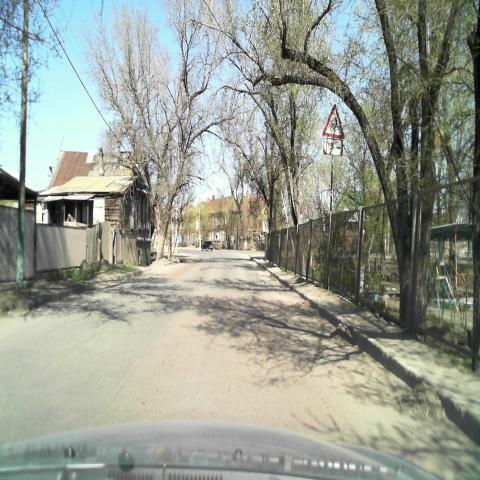8_1_3: (323, 138, 343, 156)
